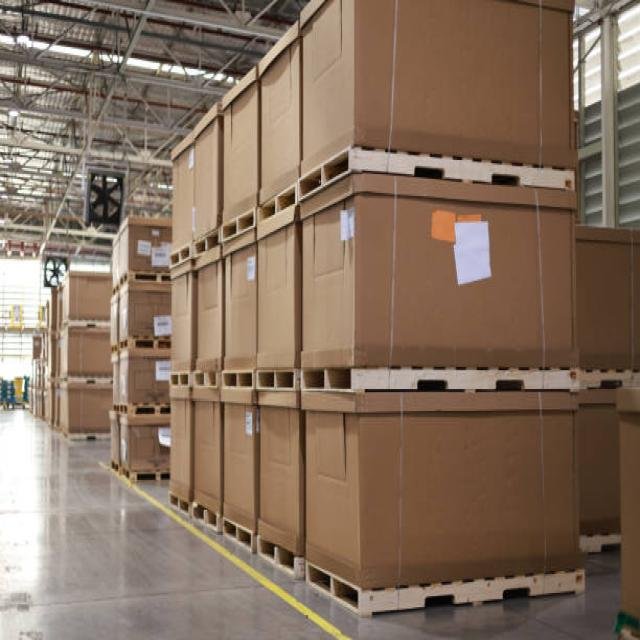Wooden-Pallets: (296, 144, 573, 221), (295, 554, 588, 625), (297, 359, 577, 398), (217, 511, 259, 565), (217, 204, 255, 247), (219, 364, 260, 398), (163, 241, 193, 275), (164, 483, 191, 519), (164, 366, 190, 394)
